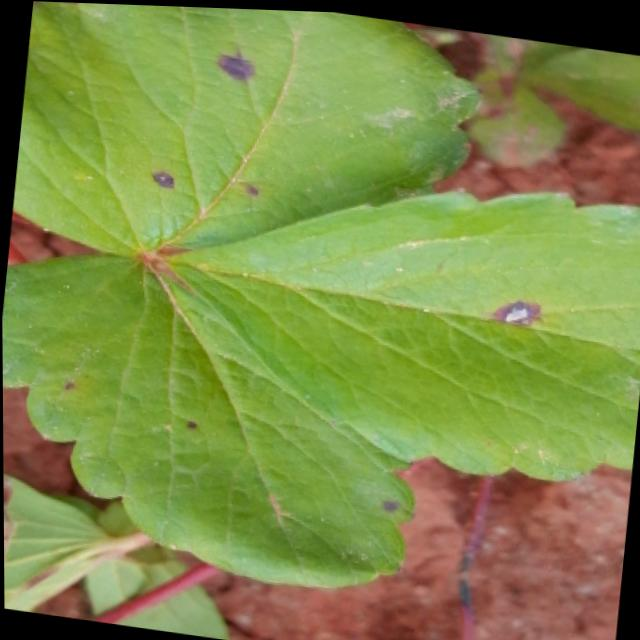Leaf Spot: (150, 186, 640, 475), (2, 251, 414, 586), (11, 1, 477, 255), (463, 58, 567, 170)
